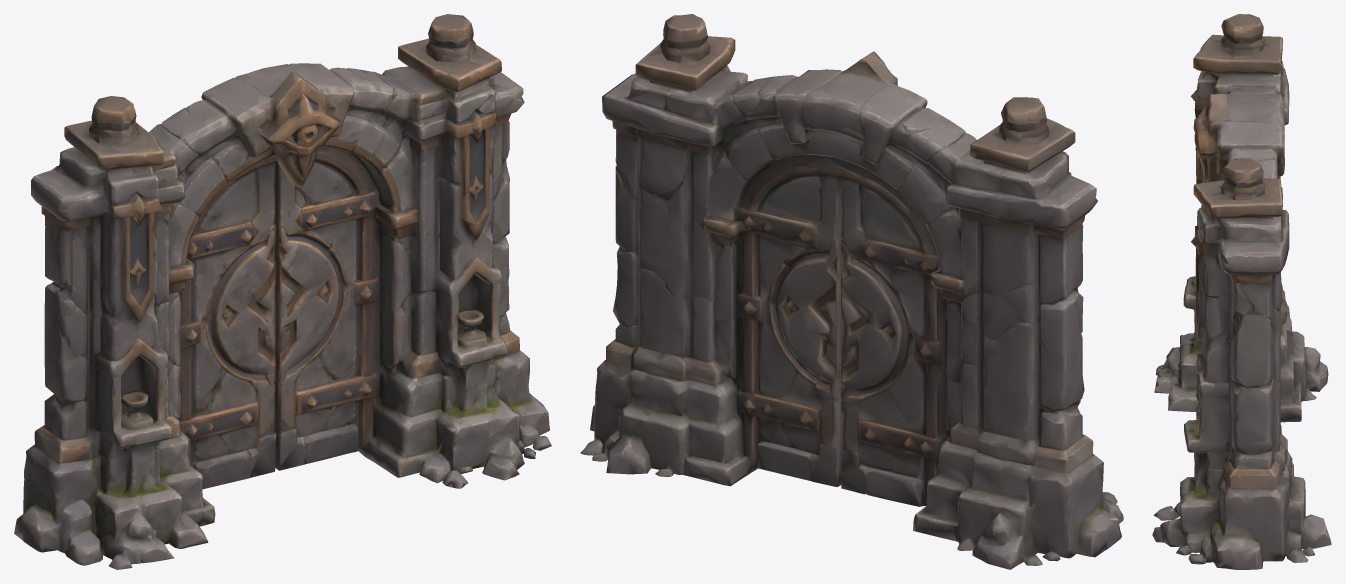
The model's file is hub_sealed_gate.glb.
3 renders of one model, left to right at view 1: azimuth 30°, elevation 25°; view 2: azimuth 150°, elevation 25°; view 3: azimuth 270°, elevation 25°, orthographic. The views are drawn at different scales.
Visible parts, largest first — view 1: tripo_node_65ebf069-26ff-45e9-ac63-8e3b5a996ffe; view 2: tripo_node_65ebf069-26ff-45e9-ac63-8e3b5a996ffe; view 3: tripo_node_65ebf069-26ff-45e9-ac63-8e3b5a996ffe.
Part boxes in pixels (box(x1,y1,x2,y2)): tripo_node_65ebf069-26ff-45e9-ac63-8e3b5a996ffe: box(14, 14, 551, 569); tripo_node_65ebf069-26ff-45e9-ac63-8e3b5a996ffe: box(580, 14, 1123, 569); tripo_node_65ebf069-26ff-45e9-ac63-8e3b5a996ffe: box(1152, 14, 1331, 569).
Bounding box in the file's own units: 1 × 0.7886 × 0.3466.
1 material, 1 textured.
